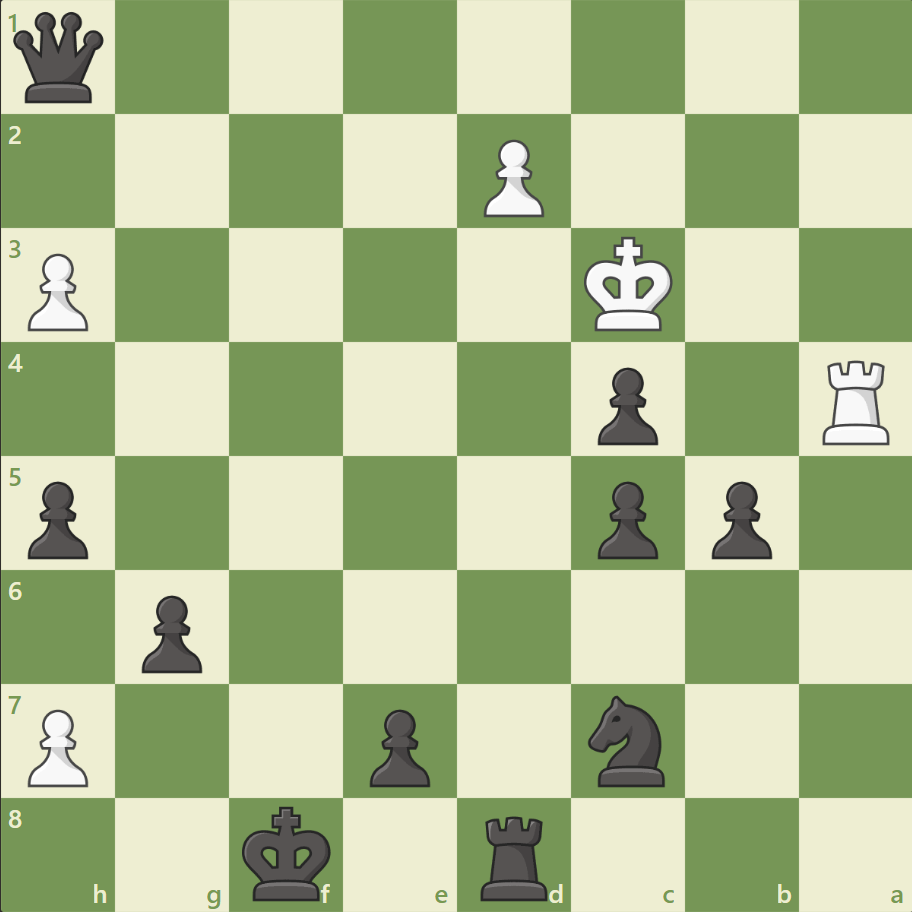K: (579, 231, 679, 339)
P: (20, 700, 95, 791), (20, 246, 95, 337), (474, 132, 549, 223)
R: (814, 352, 897, 449)
k: (238, 798, 338, 906)
n: (579, 688, 676, 791)
p: (133, 586, 208, 677), (701, 473, 776, 564), (20, 473, 95, 564), (361, 700, 435, 791), (588, 473, 662, 564), (588, 359, 662, 450)
q: (10, 9, 109, 108)
r: (473, 806, 556, 904)
